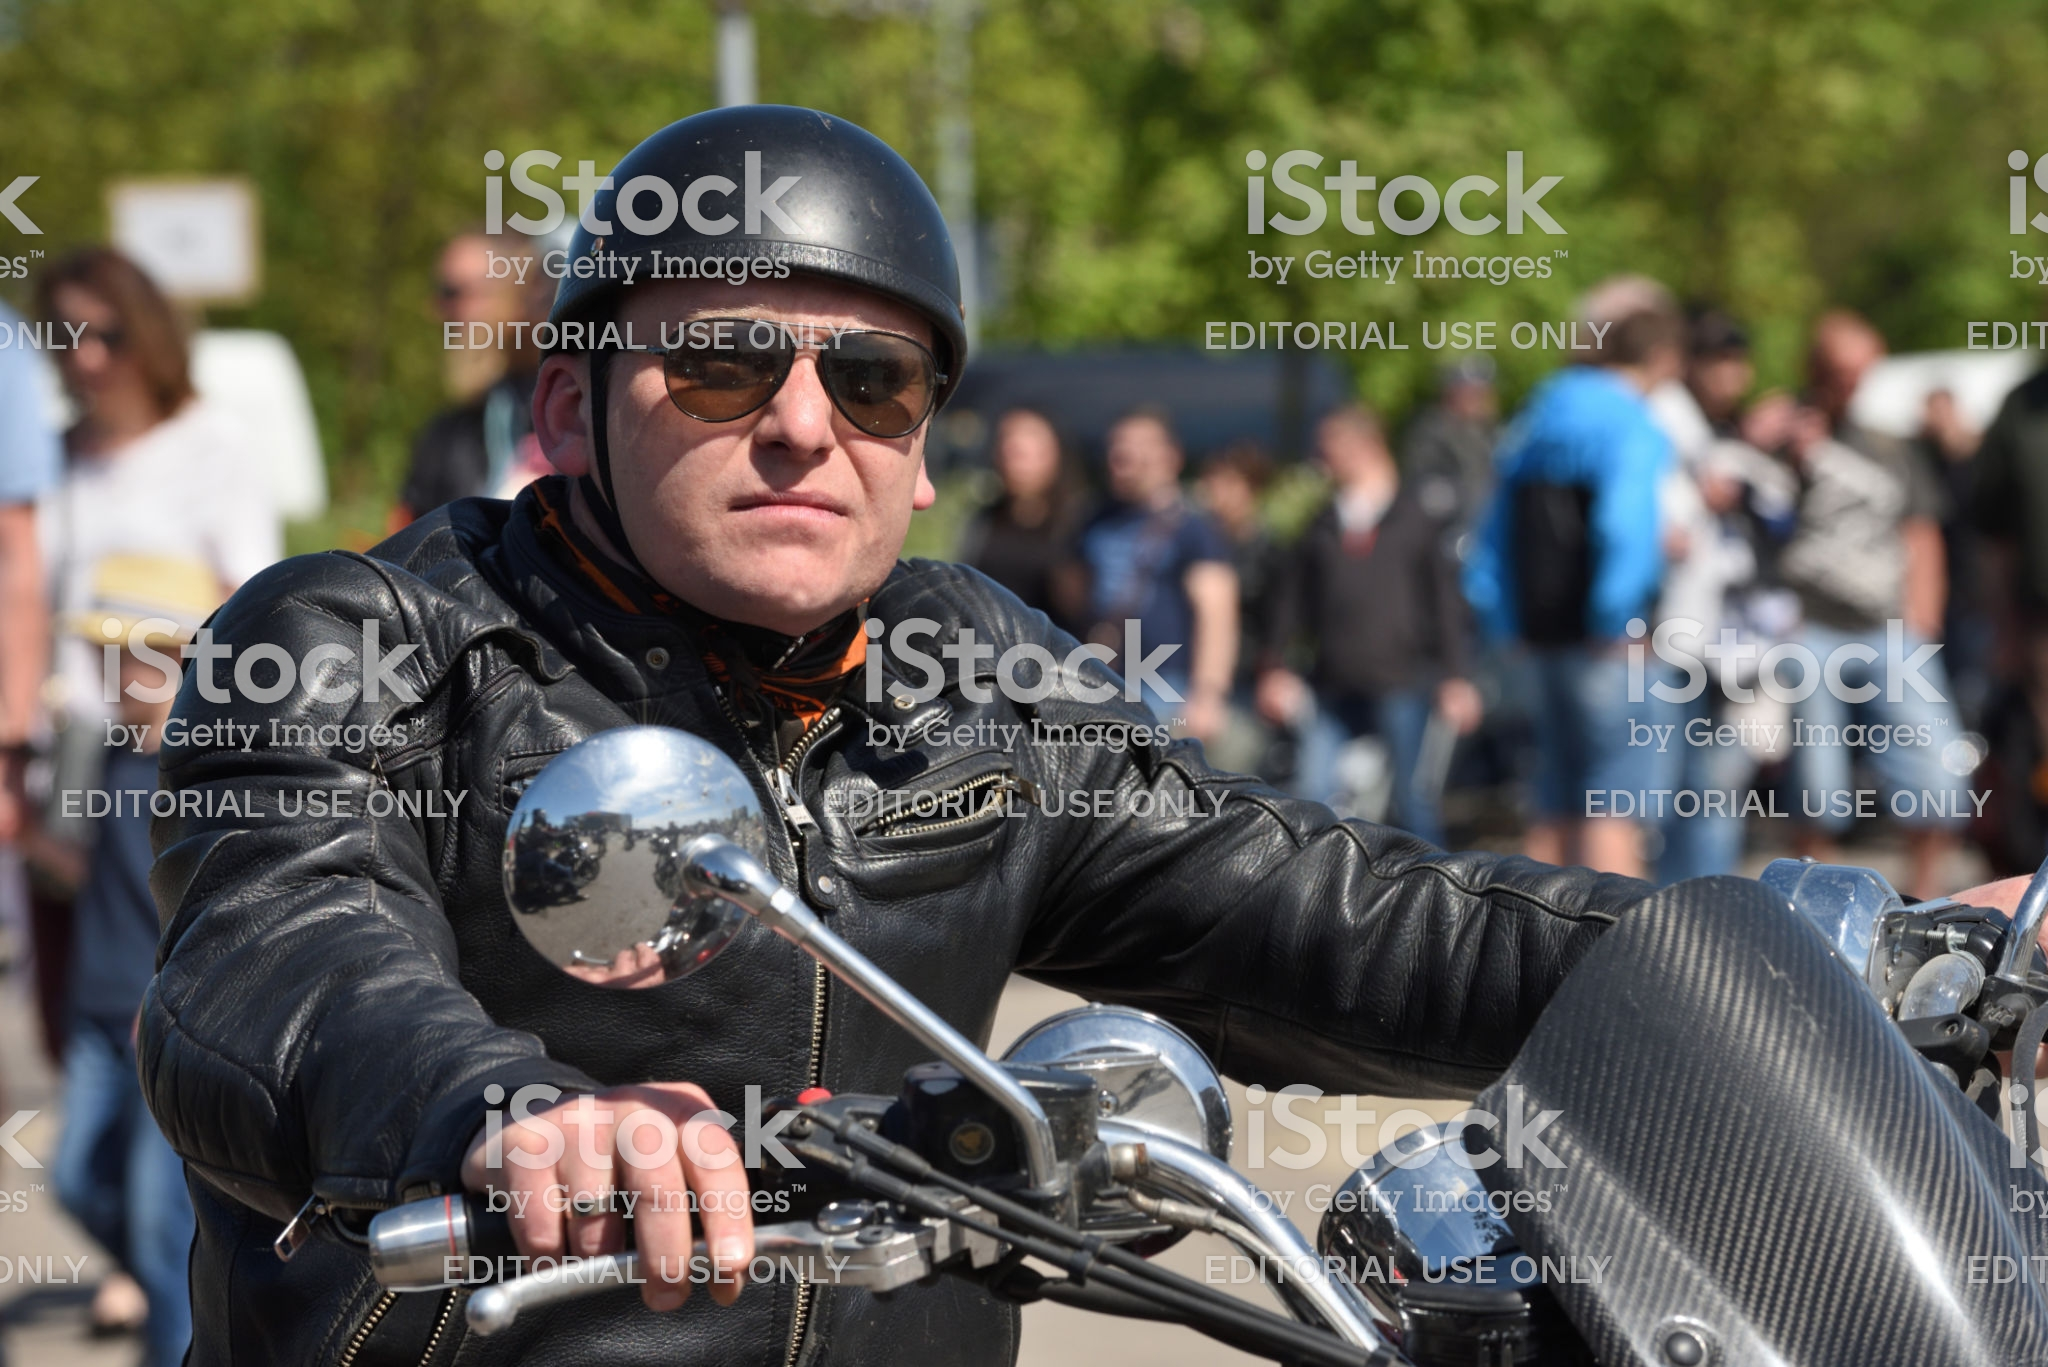helmet: (506, 122, 1017, 391)
